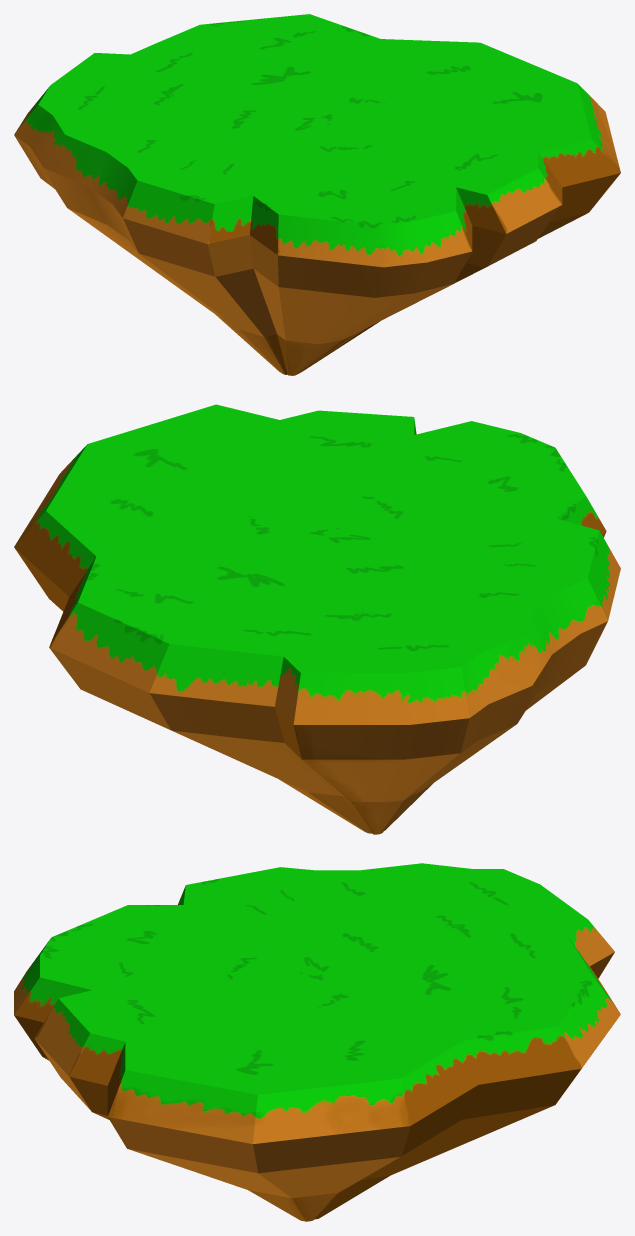
The model's file is Island1.fbx.
The picture shows the model from 3 angles, top to bottom: view 1: azimuth 30°, elevation 25°; view 2: azimuth 150°, elevation 25°; view 3: azimuth 270°, elevation 25°; orthographic projection. The views are drawn at different scales.
Visible parts, largest first — view 1: Isla-002; view 2: Isla-002; view 3: Isla-002.
Part boxes in pixels (<box>): Isla-002: <box>14,14,620,375</box>; Isla-002: <box>14,404,620,834</box>; Isla-002: <box>14,863,620,1221</box>.
Bounding box in the file's own units: 84.53 × 40.62 × 85.37.
